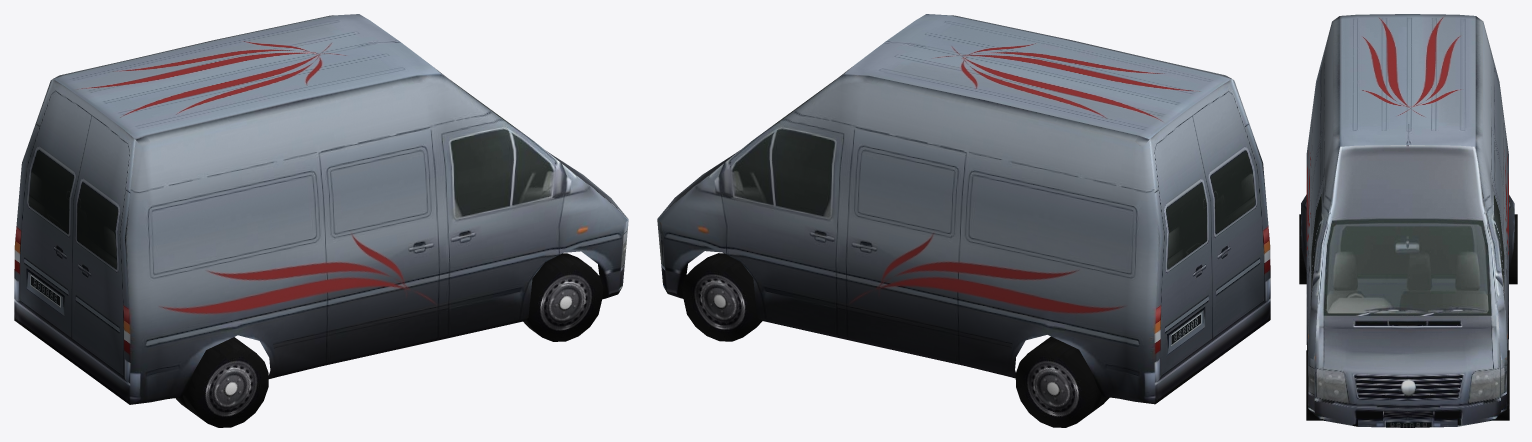
File: ltmbus.fbx
The picture shows the model from 3 angles, left to right: view 1: azimuth 30°, elevation 25°; view 2: azimuth 150°, elevation 25°; view 3: azimuth 270°, elevation 25°; orthographic projection. The views are drawn at different scales.
Visible parts, largest first — view 1: ltmbus; view 2: ltmbus; view 3: ltmbus.
Part boxes in pixels (box(x1,y1,x2,y2)): ltmbus: box(14, 14, 628, 427); ltmbus: box(657, 14, 1270, 427); ltmbus: box(1299, 14, 1517, 427).
Bounding box in the file's own units: 4.74 × 2.56 × 2.12.
Materials: 1 (1 with a texture image).
